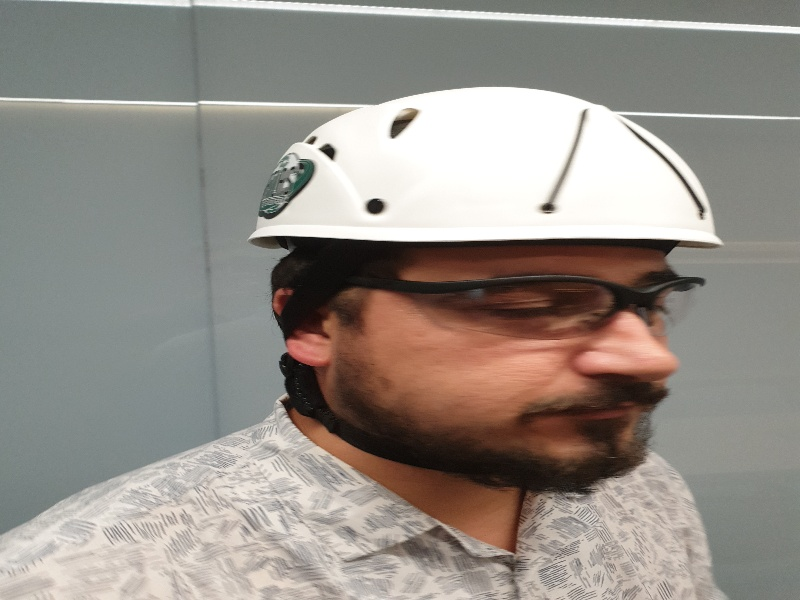Baret: (252, 84, 721, 246)
Gozluk: (326, 272, 708, 337)
